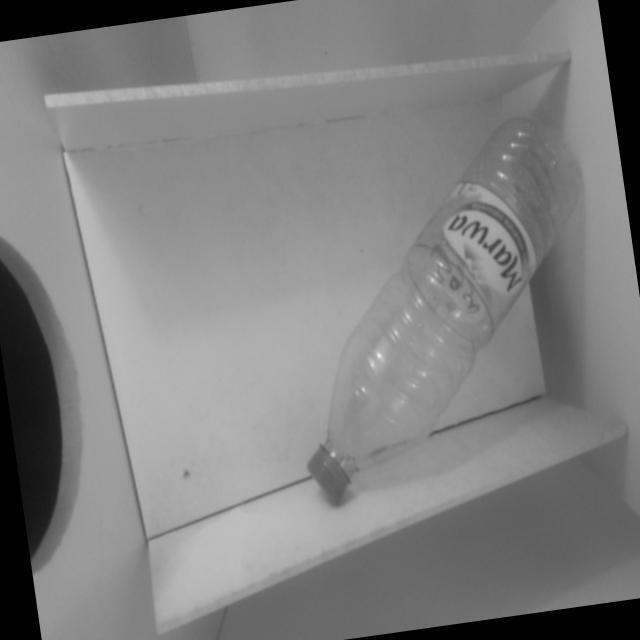good: (253, 89, 631, 512)
